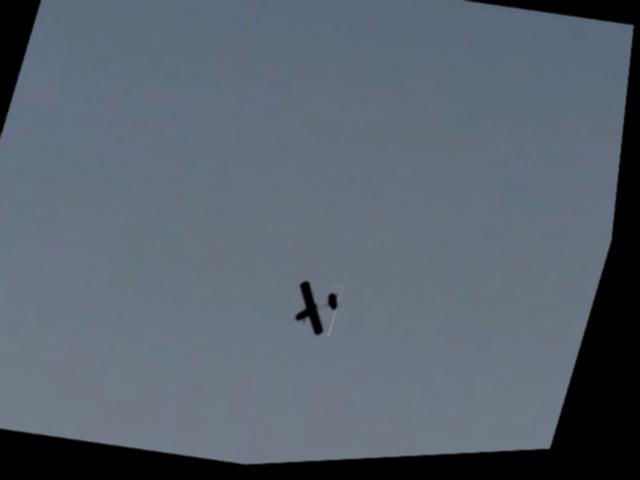insansiz-hava-araci: (293, 282, 350, 342)
